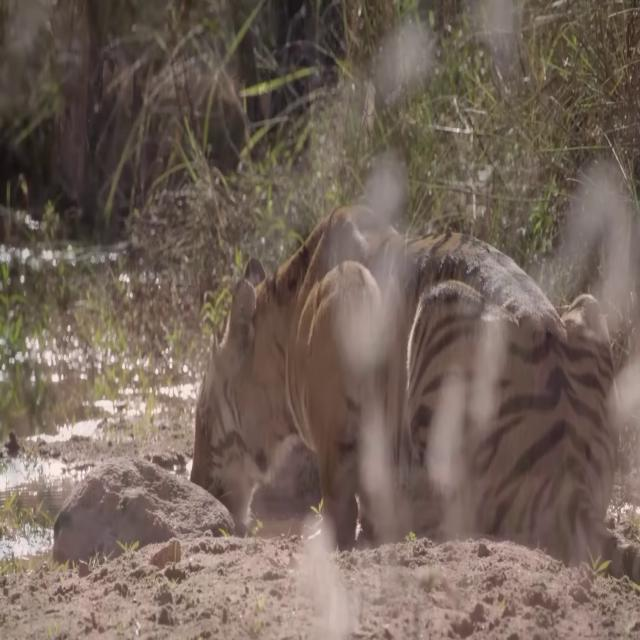tiger: (192, 200, 640, 585)
